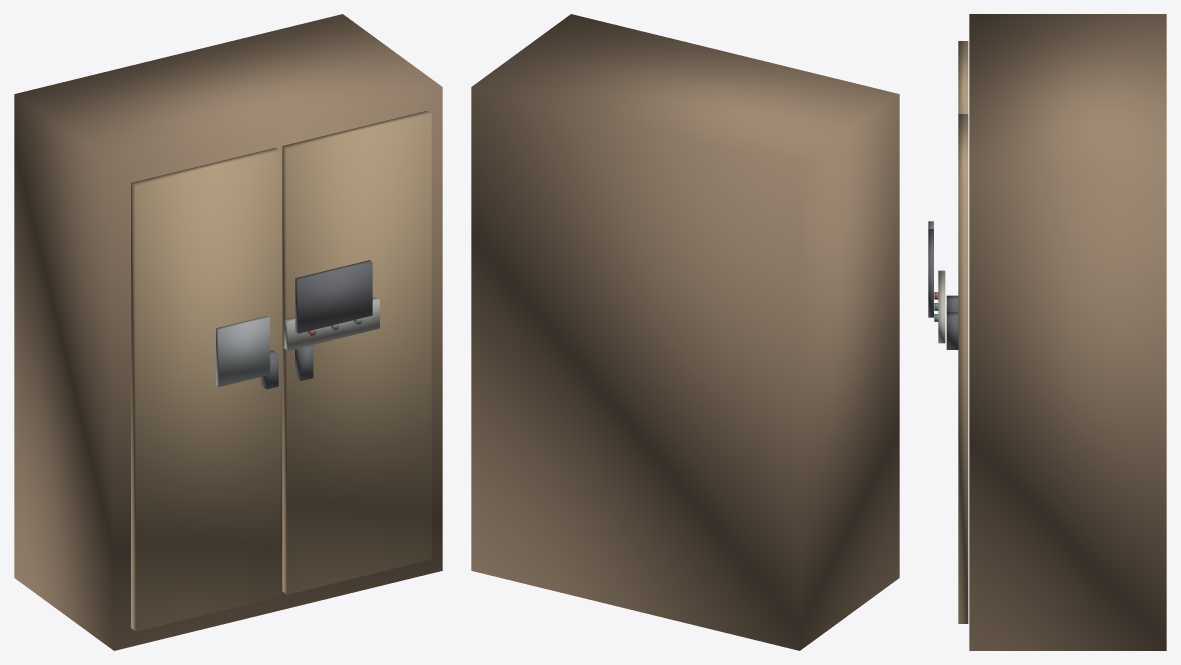
Rendered from map_cabinet__weathered.glb.
3 views of the same model, side by side, from view 1: azimuth 30°, elevation 25°; view 2: azimuth 150°, elevation 25°; view 3: azimuth 270°, elevation 25° (orthographic).
Visible parts, largest first — view 1: world; view 2: world; view 3: world.
Boxes of the visible parts, <box> form: world: <box>14,14,442,650</box>; world: <box>471,14,899,650</box>; world: <box>928,14,1166,650</box>.
Bounding box in the file's own units: 0.95 × 1.34 × 0.6041.
